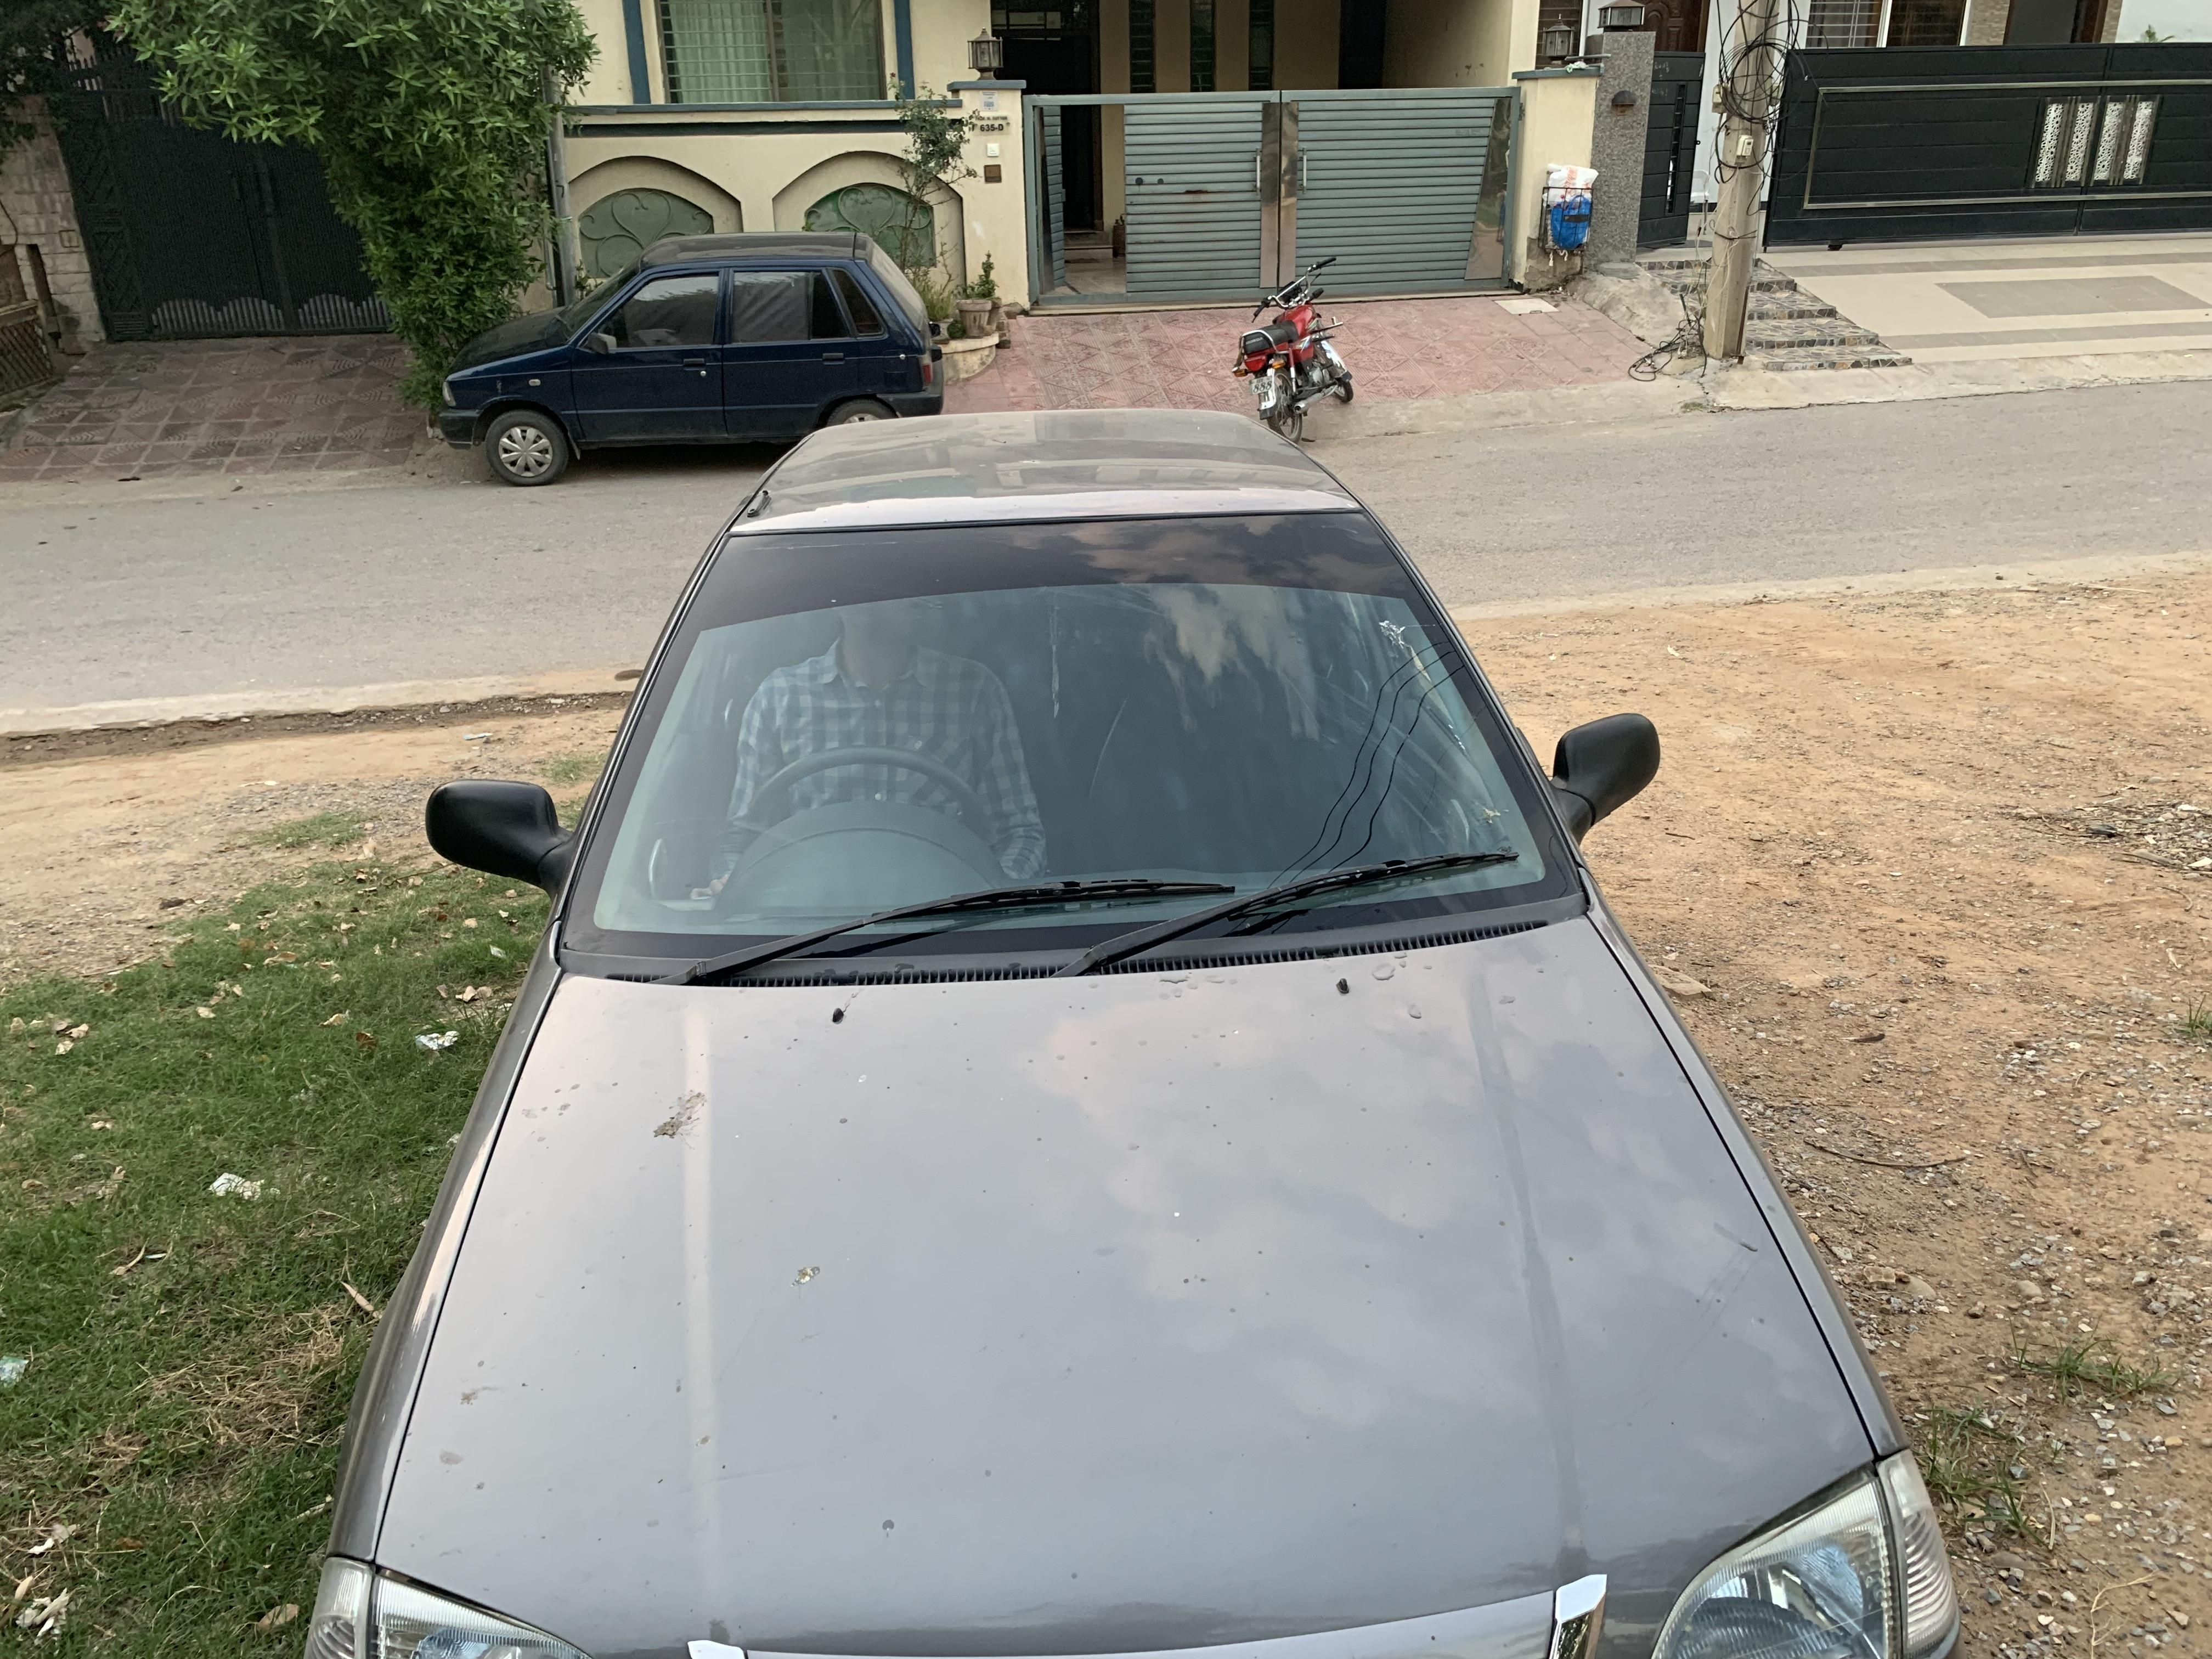windshield: (561, 488, 1613, 1021)
